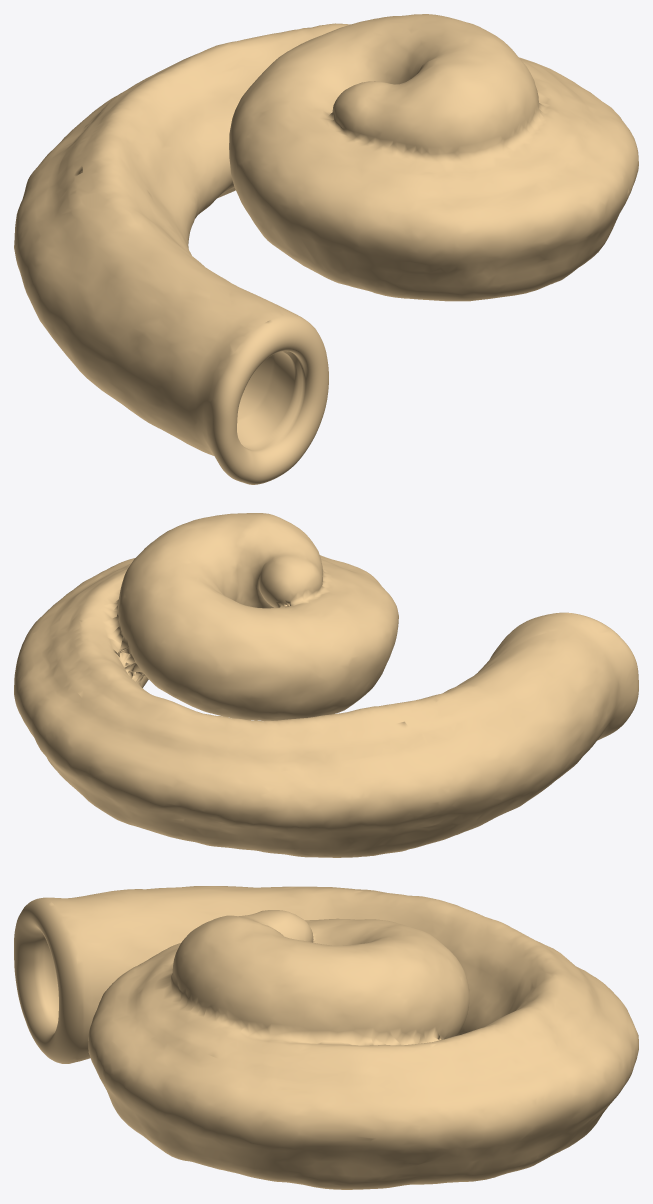
File: schizodelphis_cochlea.glb
3 renders of one model, top to bottom at view 1: azimuth 30°, elevation 25°; view 2: azimuth 150°, elevation 25°; view 3: azimuth 270°, elevation 25°, orthographic. The views are drawn at different scales.
Parts seen in each view (by area): view 1: Schizodelphis_longirostris_Cochlea_Hollow; view 2: Schizodelphis_longirostris_Cochlea_Hollow; view 3: Schizodelphis_longirostris_Cochlea_Hollow.
Part boxes in pixels (x1,y1,x2,y2): Schizodelphis_longirostris_Cochlea_Hollow: [14, 14, 638, 484]; Schizodelphis_longirostris_Cochlea_Hollow: [14, 513, 638, 857]; Schizodelphis_longirostris_Cochlea_Hollow: [14, 886, 638, 1189].
Bounding box in the file's own units: 8.7 × 4.05 × 8.72.
